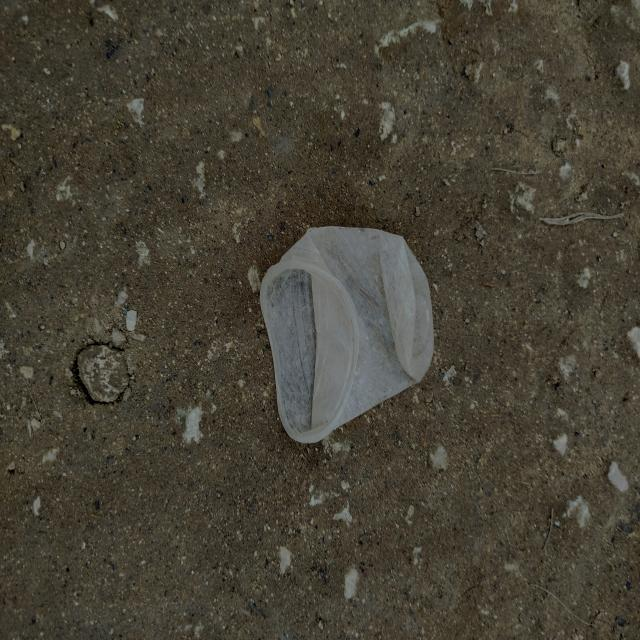plastic: (256, 215, 445, 451)
